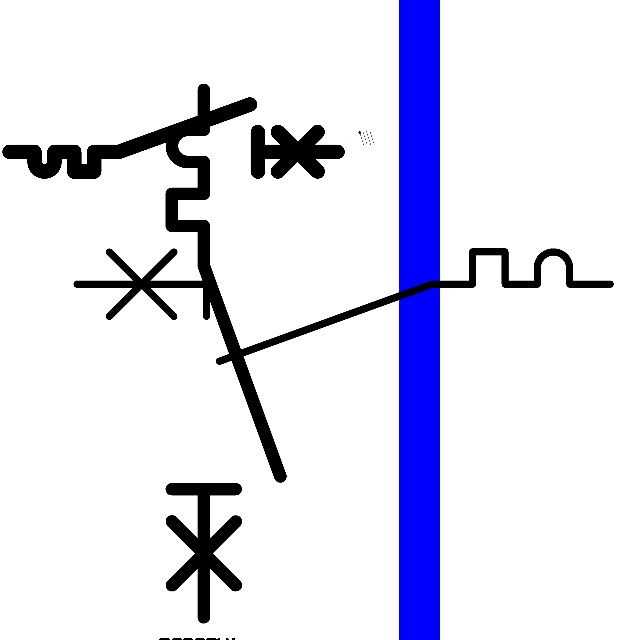interruptor_termomagnetico: (63, 238, 624, 375), (158, 76, 294, 631), (1, 96, 346, 180)
